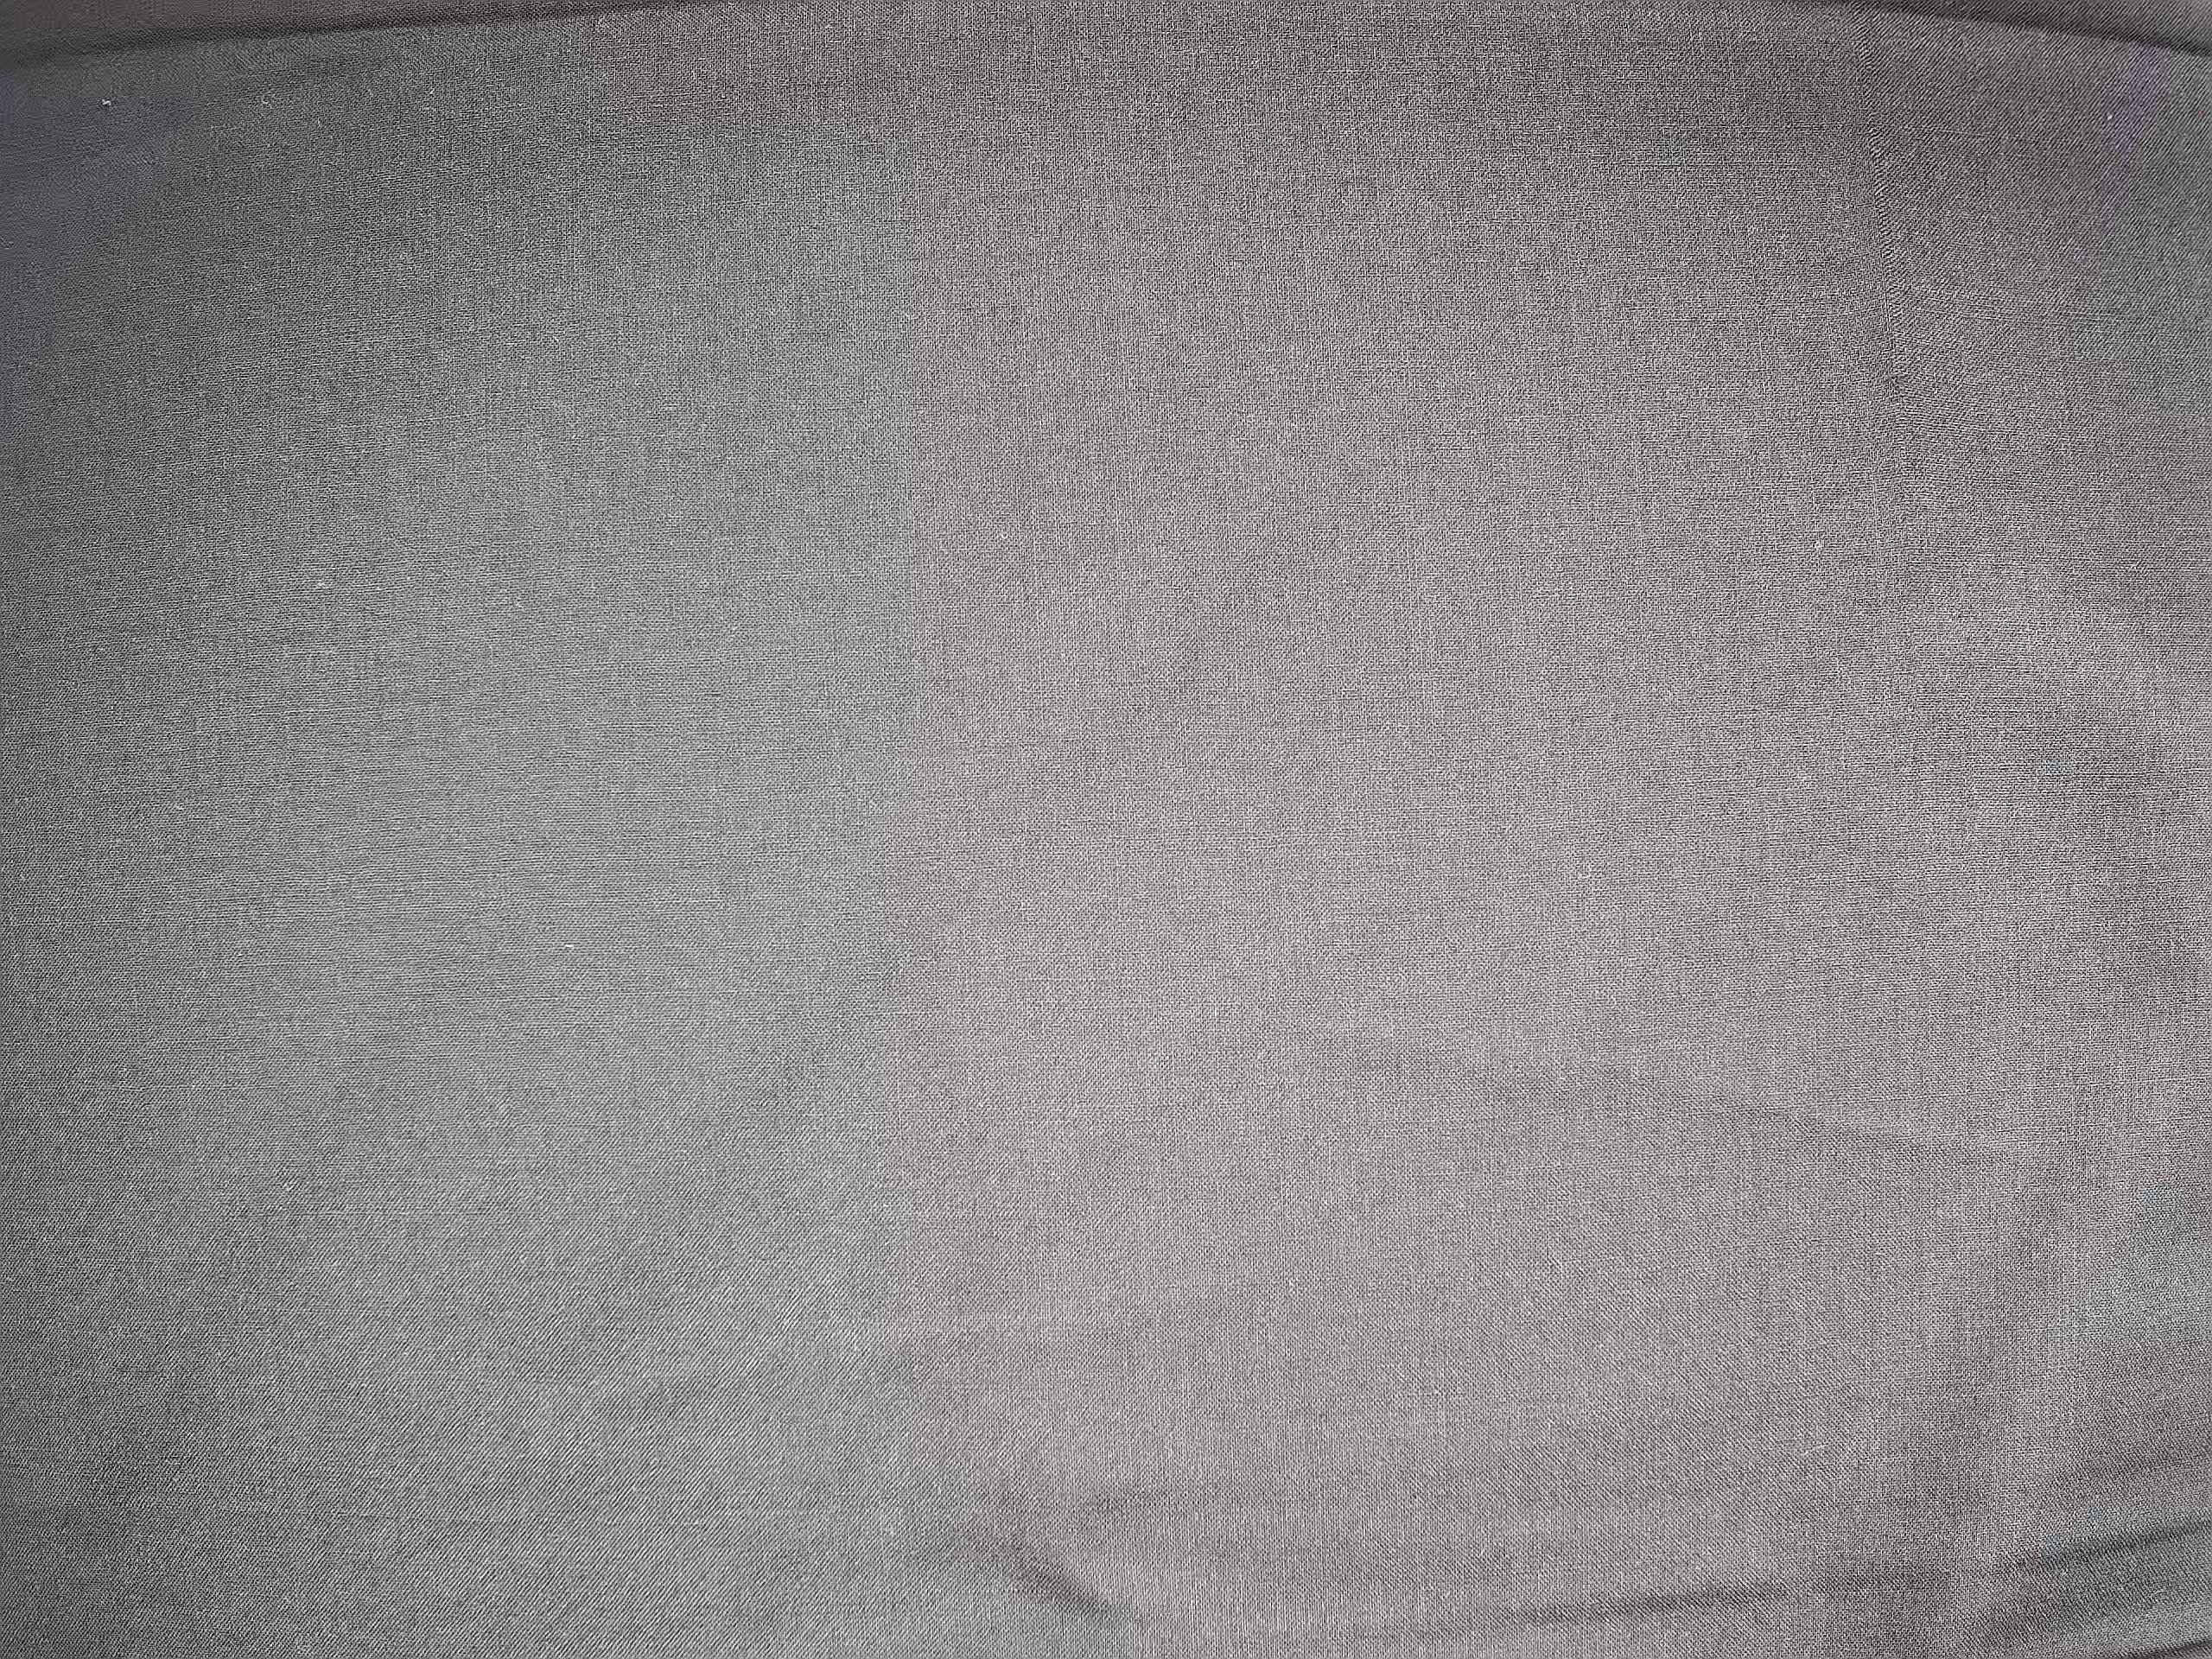hanging-warp: (1848, 10, 1932, 432)
